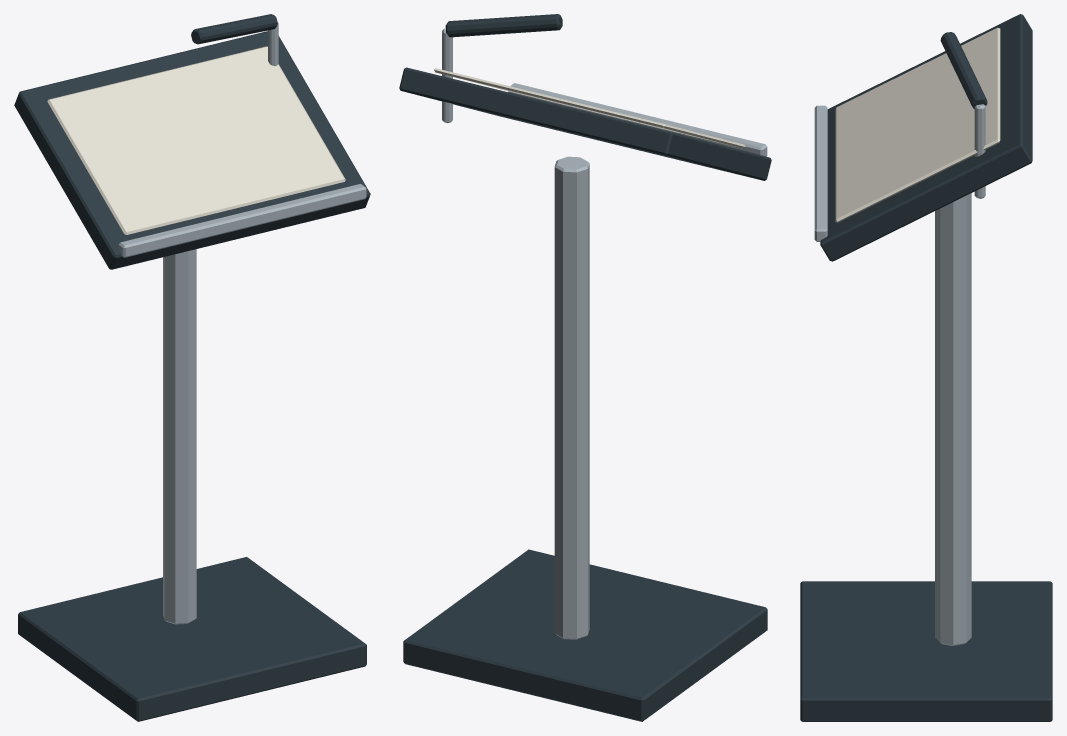
File: b10_restaurant_menu_display_podium.glb
3 renders of one model, left to right at view 1: azimuth 30°, elevation 25°; view 2: azimuth 150°, elevation 25°; view 3: azimuth 270°, elevation 25°, orthographic. The views are drawn at different scales.
Visible parts, largest first — view 1: b10_restaurant_menu_display_podium; view 2: b10_restaurant_menu_display_podium; view 3: b10_restaurant_menu_display_podium.
Part boxes in pixels (left/top/right/bottom): b10_restaurant_menu_display_podium: left=14, top=14, right=370, bottom=721; b10_restaurant_menu_display_podium: left=399, top=14, right=771, bottom=721; b10_restaurant_menu_display_podium: left=800, top=14, right=1052, bottom=721.
Bounding box in the file's own units: 0.58 × 1.31 × 0.47.
